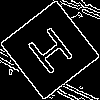H: (25, 25, 82, 84)
